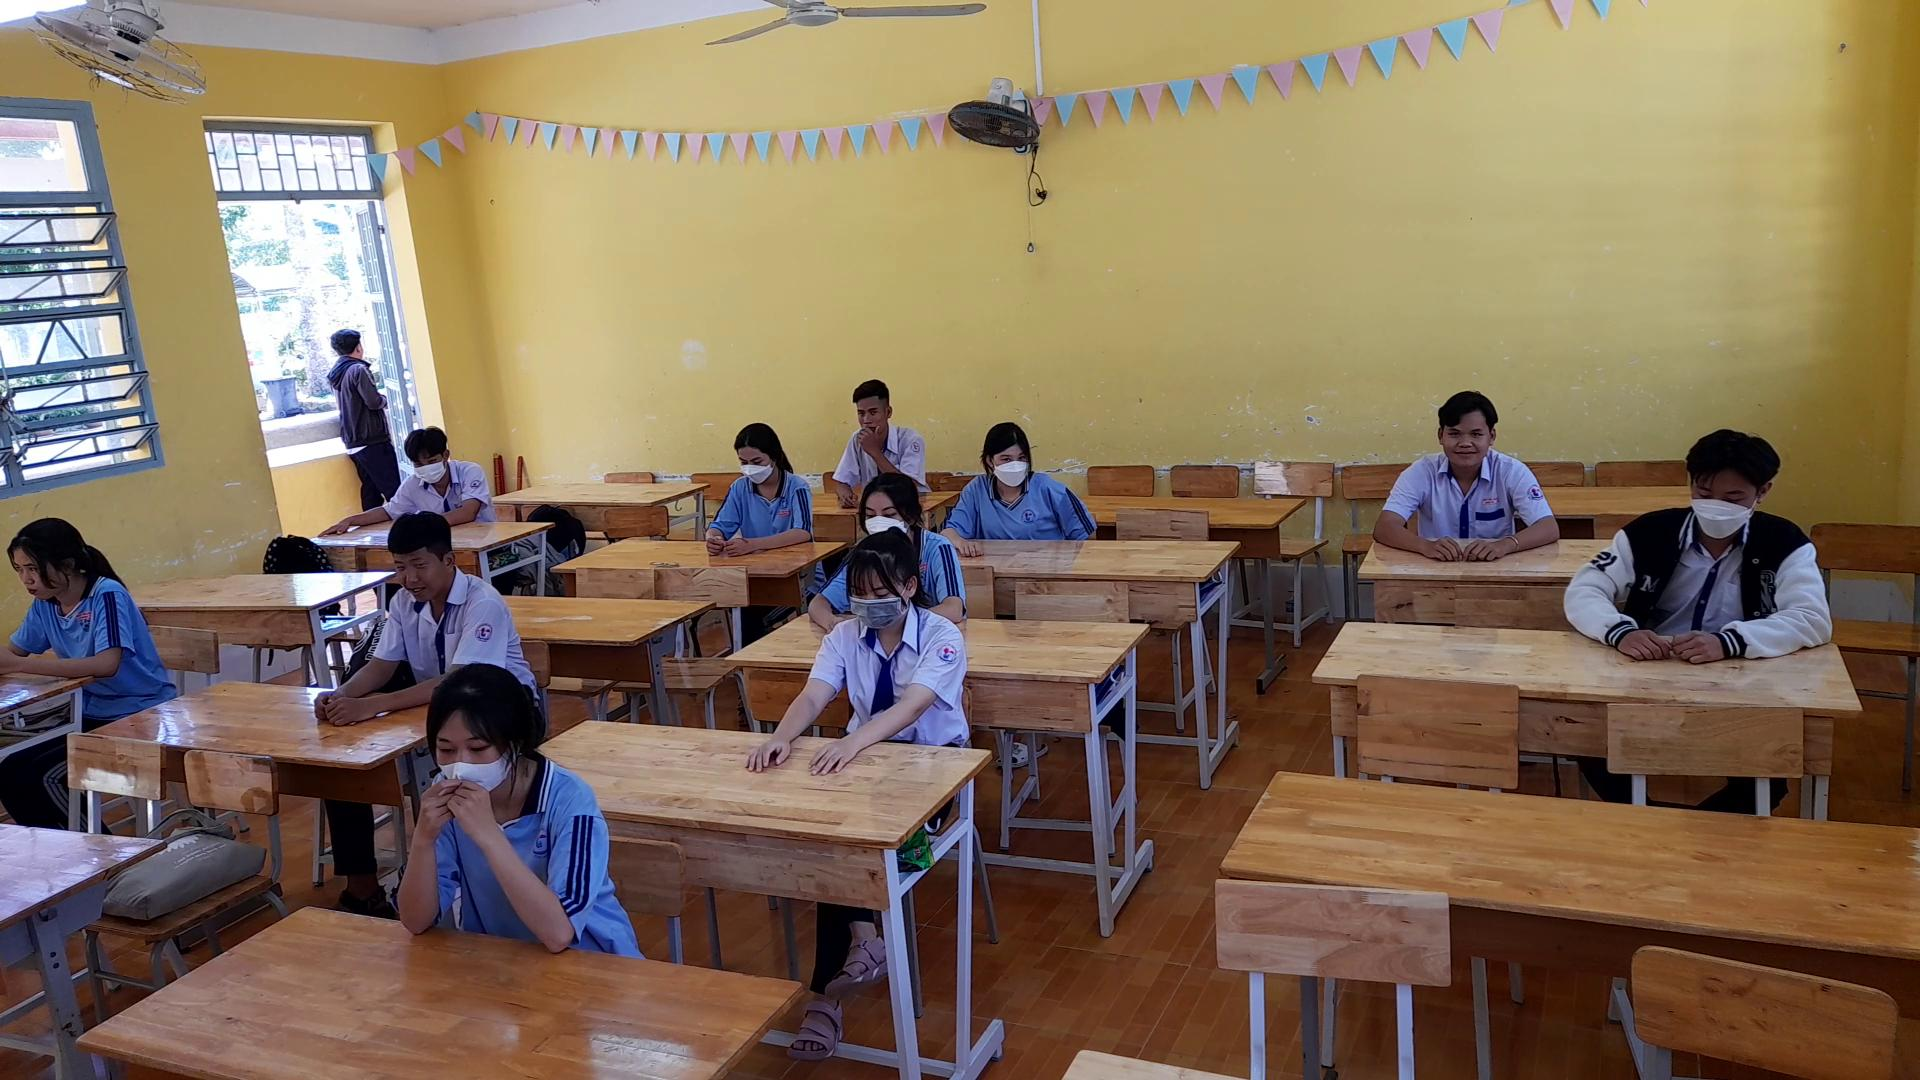Hand Under Table: (1043, 463, 1104, 549)
Normal: (735, 527, 1021, 791), (1553, 418, 1846, 673), (1362, 371, 1567, 568), (5, 498, 170, 705), (347, 506, 531, 682), (678, 411, 819, 560), (386, 411, 495, 513)
Wave: (450, 771, 615, 953), (384, 767, 454, 944), (848, 415, 918, 473)
